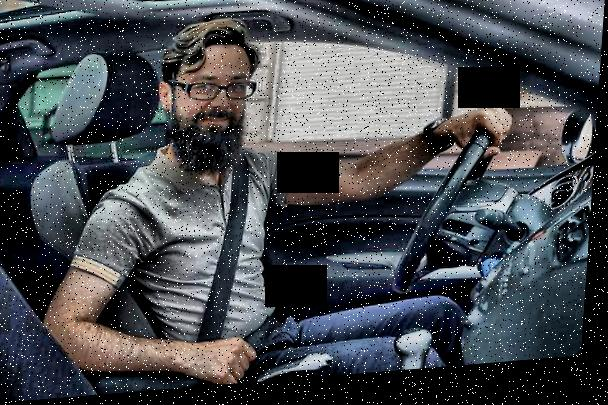seatbelt: (183, 140, 273, 347)
